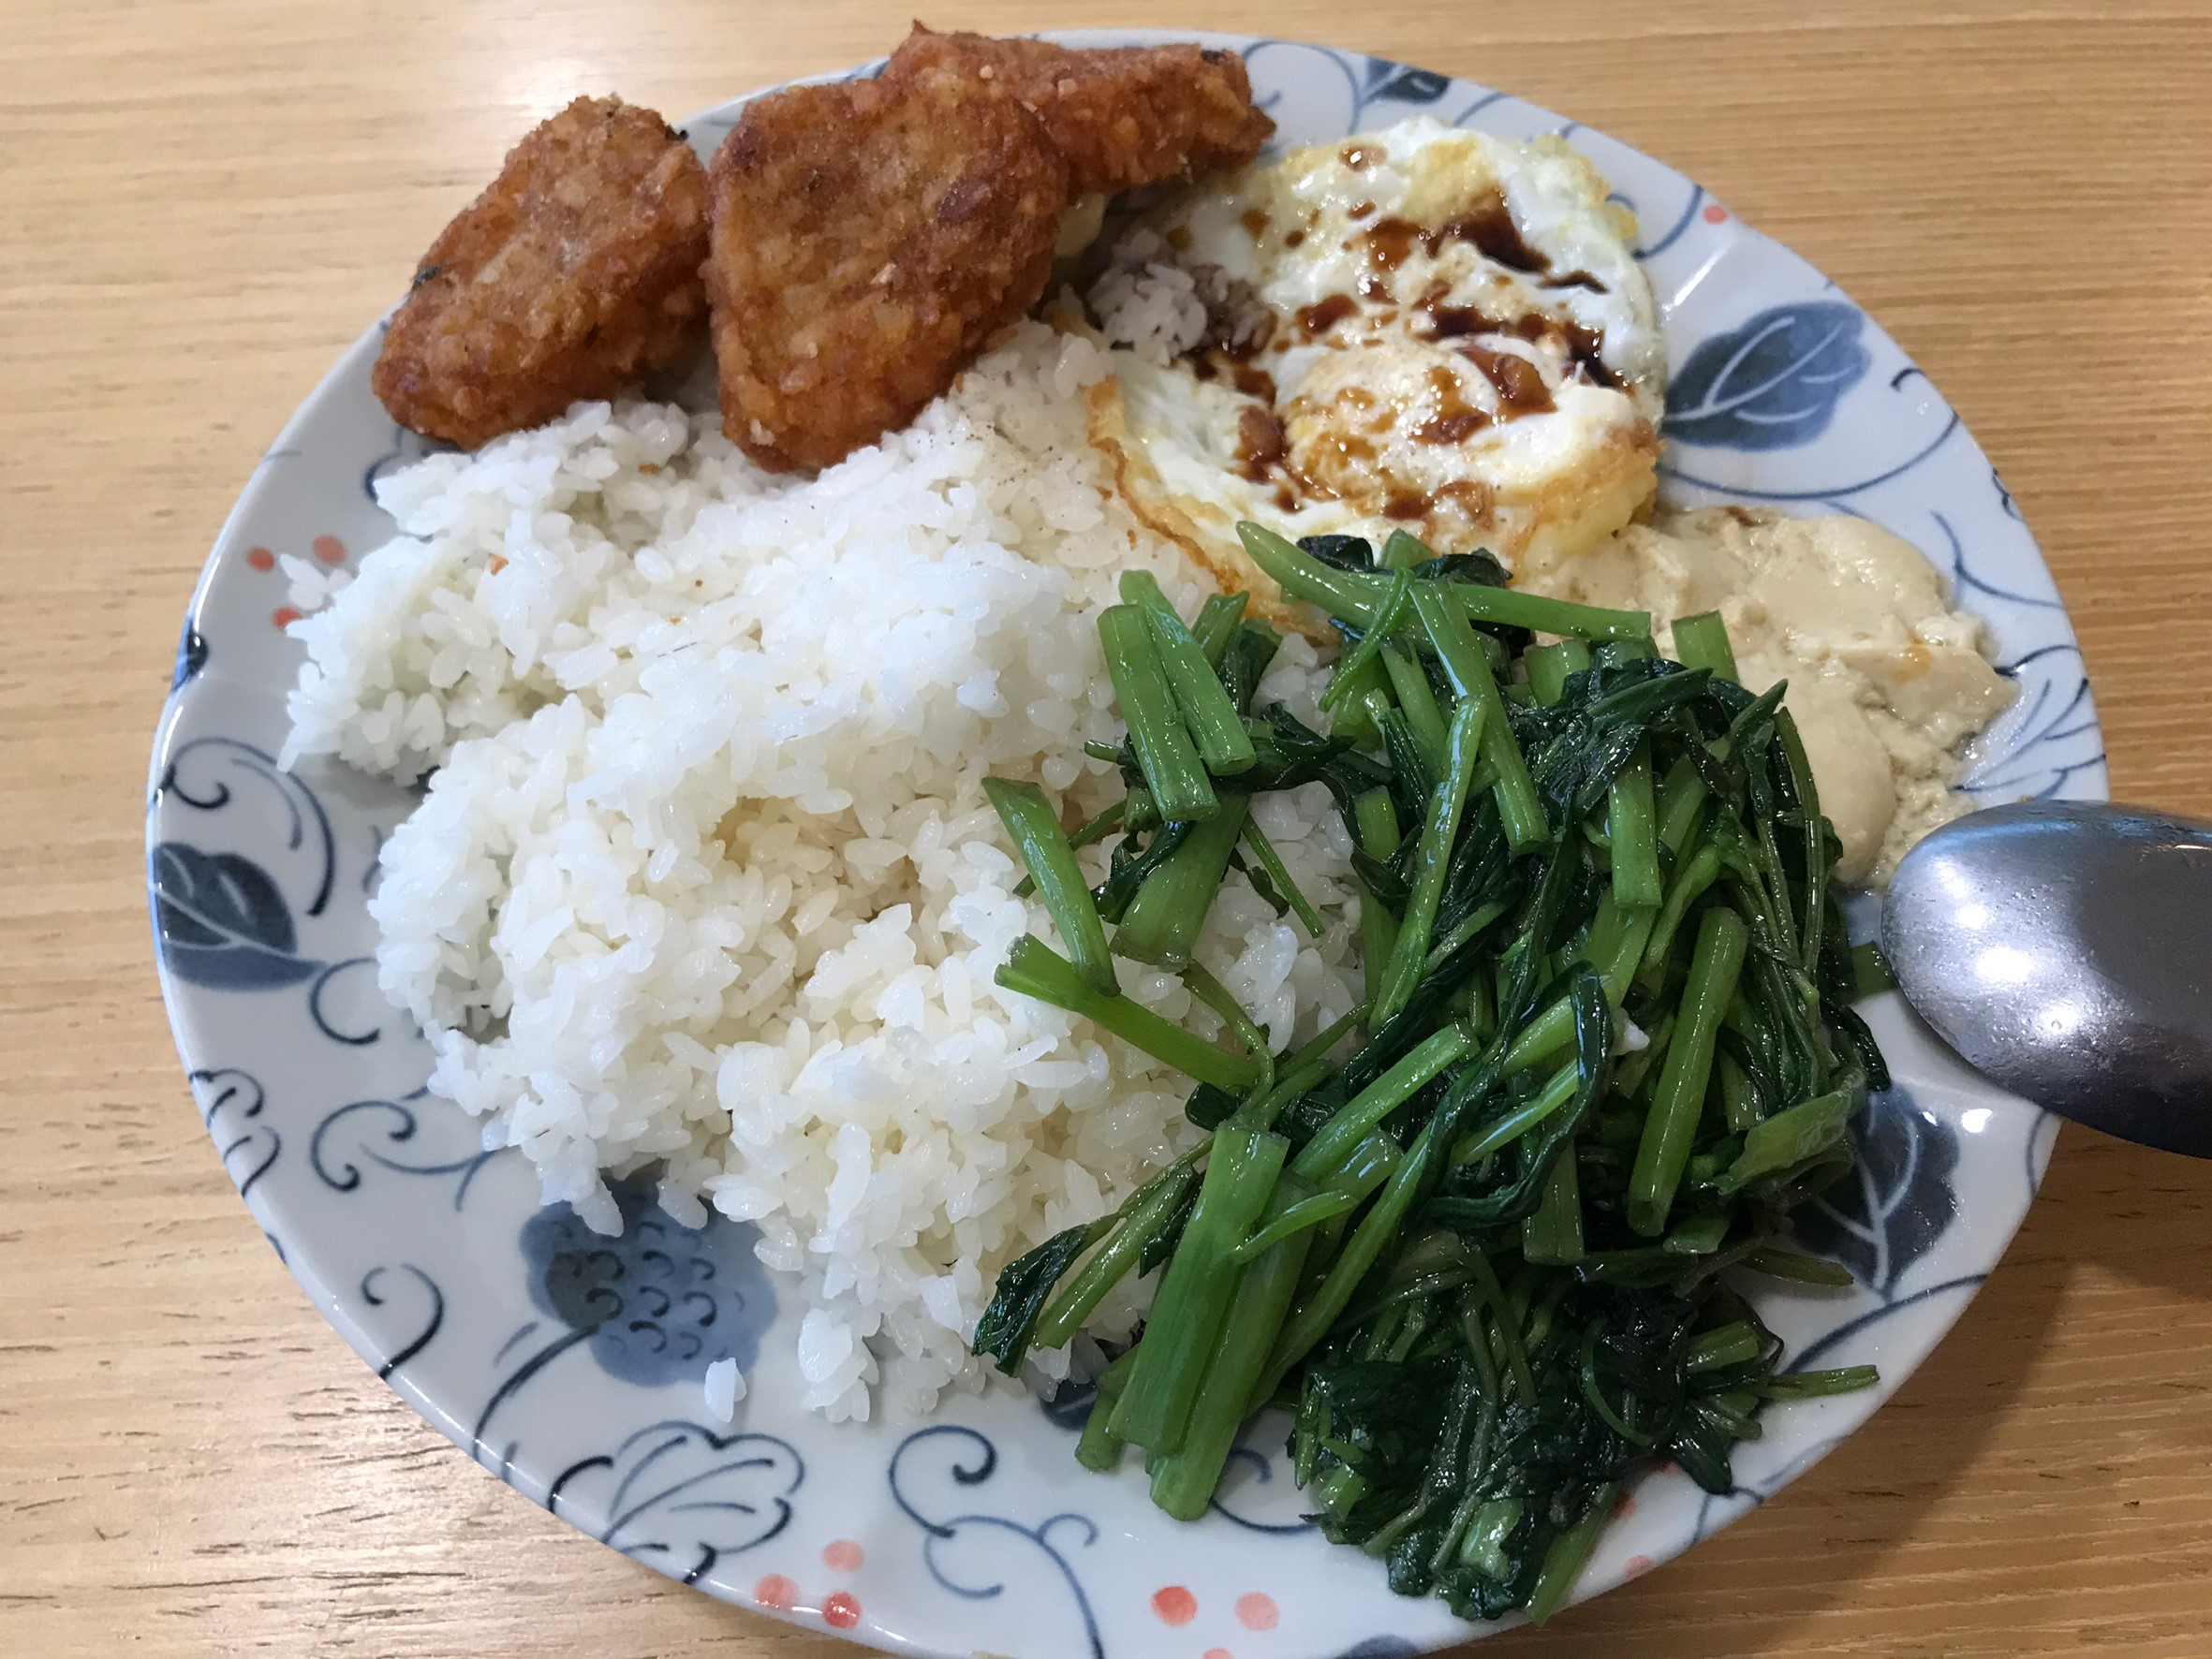fried_eggs: (1105, 118, 1668, 610)
rice: (347, 472, 1109, 1297)
triangle_hash_brown: (382, 26, 1255, 474)
water_spinach: (1117, 551, 1862, 1610)
